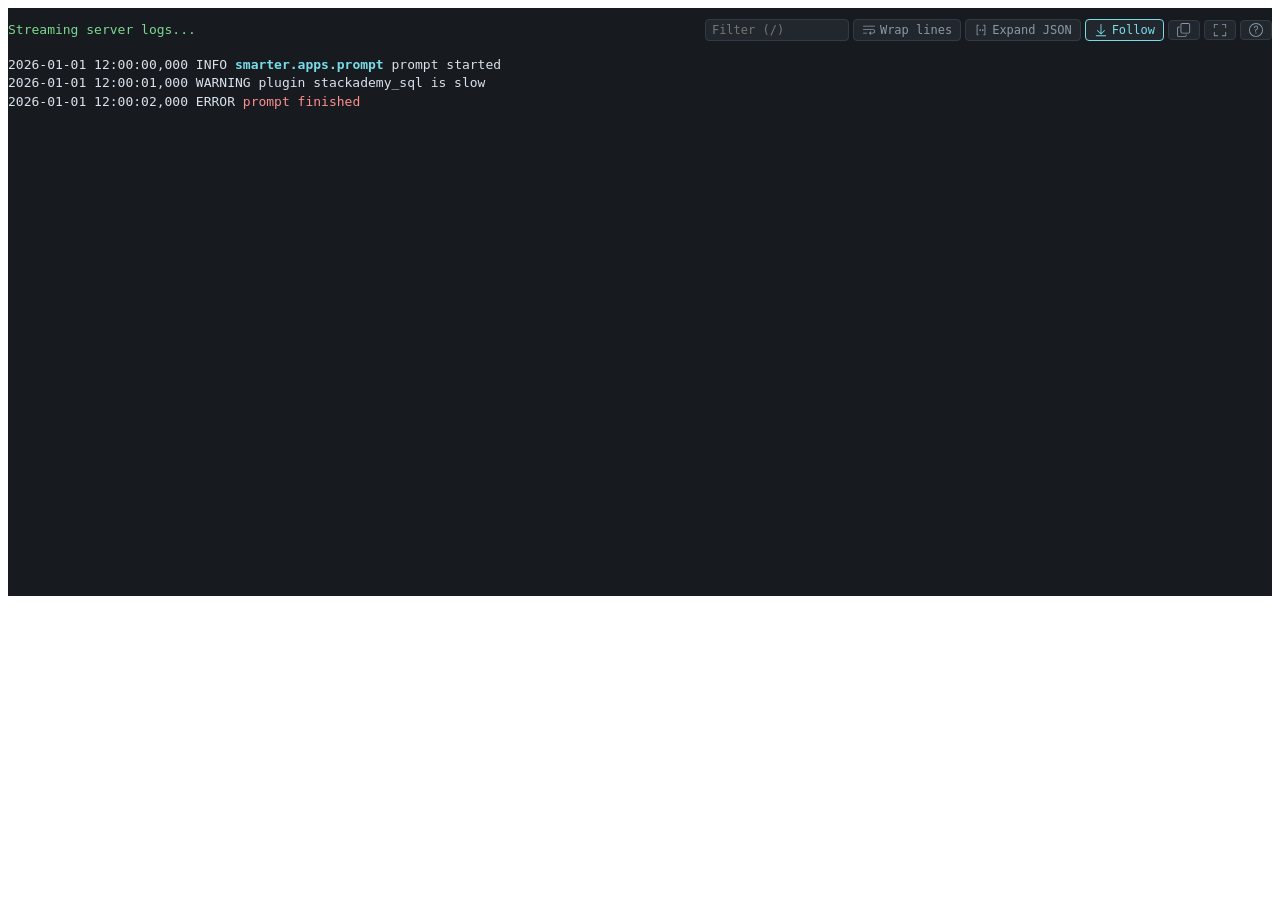
Scenario: ServerLogs › lists its keyboard shortcuts with ? or its button, and hides them with Esc
Press ? in the element named "Server logs", box [8,57,501,109]
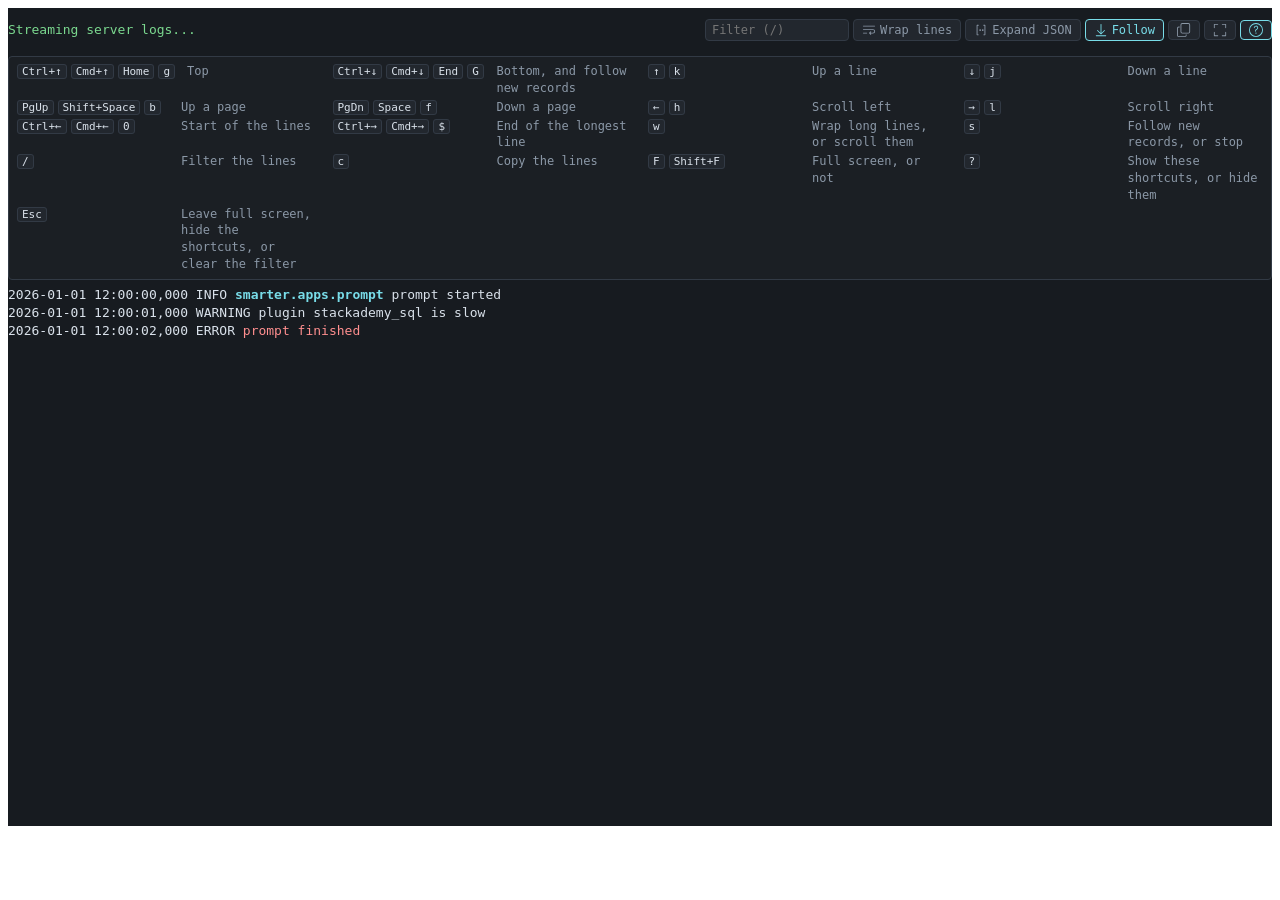
Expected: the text "Top" shows "Ctrl+↑", [22,65,62,78]
Expected: the text "Top" is shown, [187,64,209,78]
Expected: the text "Top" shows "Wrap long lines, or scroll them", [812,119,928,149]
Press Escape in the element named "Server logs", box [8,287,501,338]
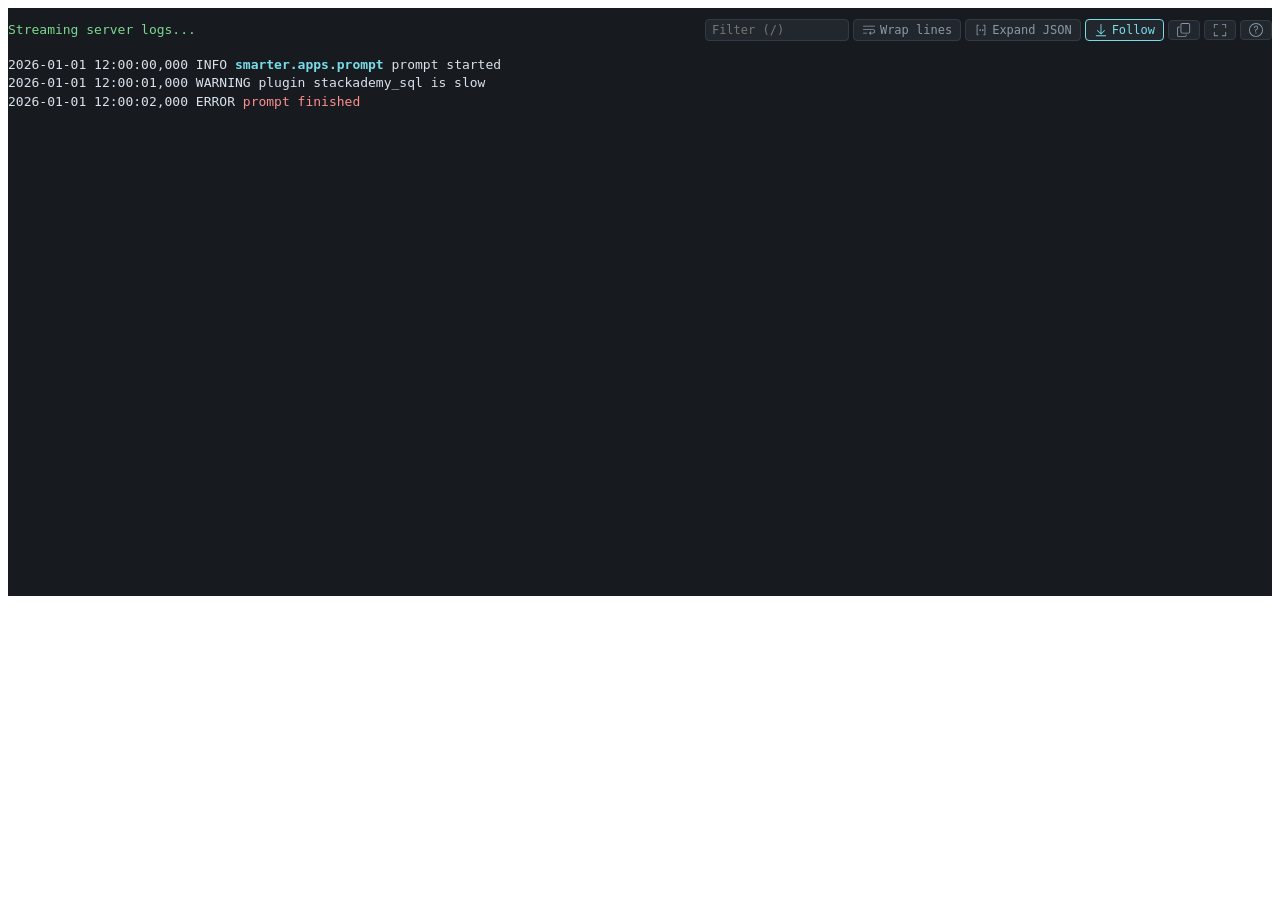
Expected: the text "Wrap long lines, or scroll them" is gone
Click the button named "Keyboard shortcuts" at (1256,30), box [1240,20,1272,40]
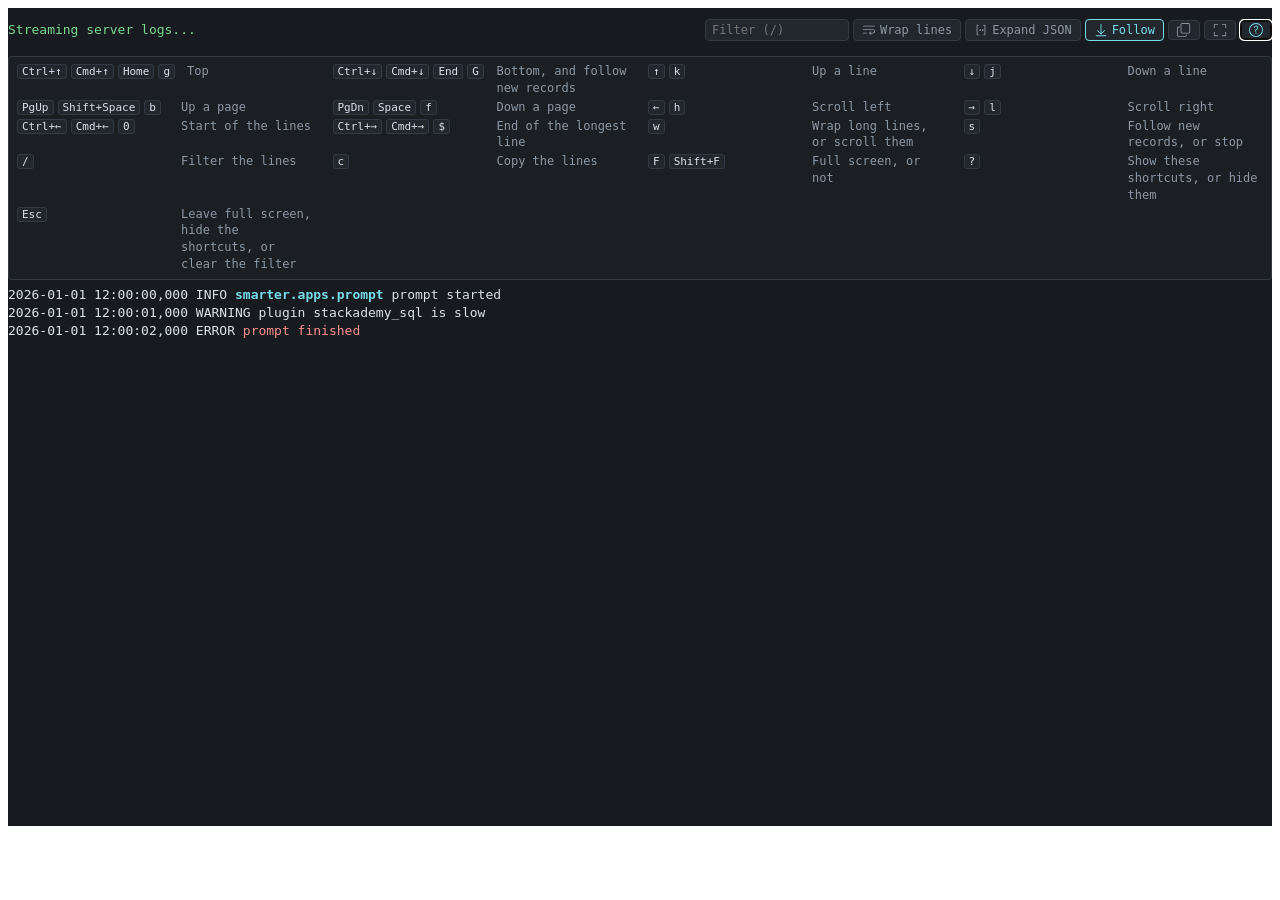
Expected: the text "Leave full screen, hide the shortcuts, or clear the filter" is shown, [181,206,316,273]
